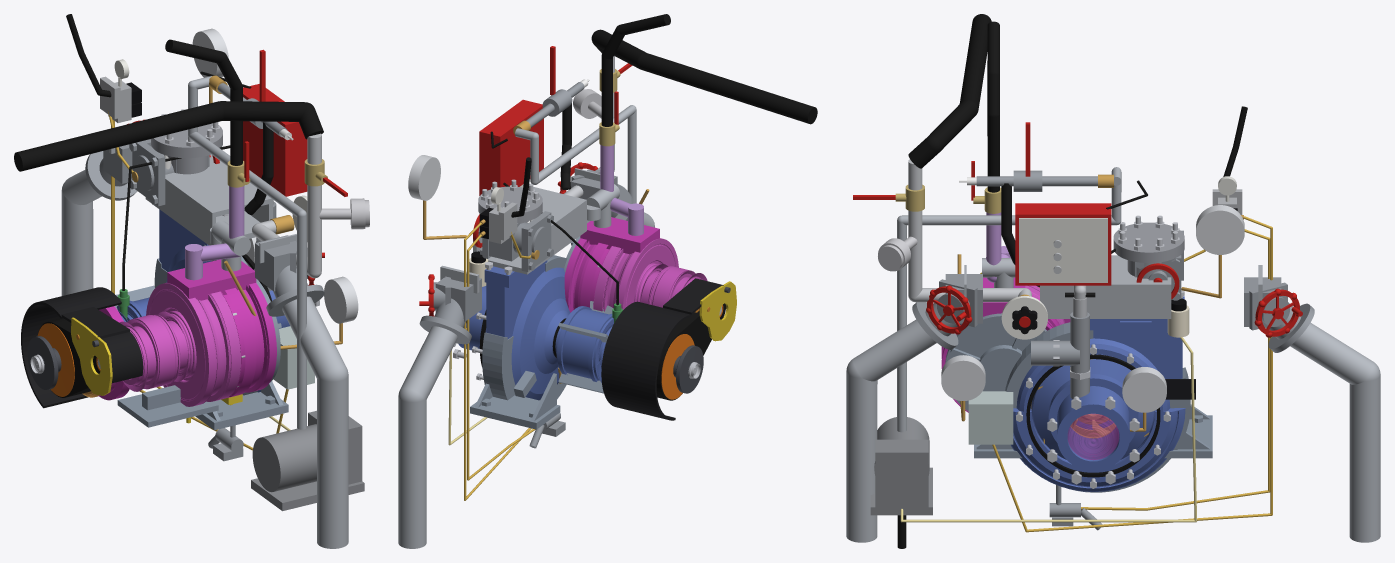
The model's file is NCPK_M_V1U.glb.
3 renders of one model, left to right at view 1: azimuth 30°, elevation 25°; view 2: azimuth 150°, elevation 25°; view 3: azimuth 270°, elevation 25°, orthographic. The views are drawn at different scales.
Parts seen in each view (by area): view 1: ВД 6 Корпус насоса и опор, П 1 Напорный трубопровод АЦ (левый), П Рукав к пенобаку, П 24 Агрегат вакуумный, Р Кожух ремённой передачи, П Коллектор напорный, П 12 Напорный трубопровод АЦ (правый), ВД 1 Корпус насоса (со стороны входа), П Труба вакуумирования к агрегату (уточнить), П 7 Блок управления и контроля БУК-02, П 1 Напорный вентиль DN70 (левый): корпус и патрубок, ВД 6 Лапа крепления ступени ВД (+29 smaller); view 2: НД 13 Корпус насоса, Р Кожух ремённой передачи, П 12 Напорный трубопровод АЦ (правый), ВД 6 Корпус насоса и опор, П Рукав к пенобаку, П 7 Блок управления и контроля БУК-02, П Коллектор напорный, НД 13 Опорные лапы корпуса, П 12 Напорный вентиль DN70 (правый): корпус и патрубок, П Труба вакуумирования к агрегату (уточнить), П 10 Напорный вентиль DN80 заполнения цистерны: корпус, НД 13 Улитка: наружная спиральная стенка (+21 smaller); view 3: НД 13 Корпус насоса, П 12 Напорный трубопровод АЦ (правый), НД 16 Крышка насоса, П 1 Напорный трубопровод АЦ (левый), П 7 БУК-02: лицевая панель, П 24 Агрегат вакуумный, П Коллектор напорный, П Рукав к пенобаку, ВД 1 Передняя крышка ступени ВД, П Труба вакуумирования к агрегату (уточнить), П 12 Напорный вентиль DN70 (правый): корпус и патрубок, П 1 Напорный вентиль DN70 (левый): корпус и патрубок (+29 smaller).
Boxes of the visible parts, left/top/right/bottom form: ВД 6 Корпус насоса и опор: left=119, top=282, right=240, bottom=406; П 1 Напорный трубопровод АЦ (левый): left=282, top=296, right=348, bottom=548; П Рукав к пенобаку: left=14, top=101, right=323, bottom=171; П 24 Агрегат вакуумный: left=251, top=410, right=364, bottom=511; Р Кожух ремённой передачи: left=21, top=287, right=143, bottom=408; П Коллектор напорный: left=109, top=148, right=296, bottom=263; П 12 Напорный трубопровод АЦ (правый): left=61, top=169, right=101, bottom=295; ВД 1 Корпус насоса (со стороны входа): left=220, top=283, right=276, bottom=397; П Труба вакуумирования к агрегату (уточнить): left=188, top=76, right=306, bottom=429; П 7 Блок управления и контроля БУК-02: left=243, top=84, right=307, bottom=196; П 1 Напорный вентиль DN70 (левый): корпус и патрубок: left=255, top=235, right=324, bottom=316; ВД 6 Лапа крепления ступени ВД: left=117, top=385, right=218, bottom=427; НД 13 Корпус насоса: left=484, top=257, right=613, bottom=400; Р Кожух ремённой передачи: left=601, top=278, right=726, bottom=420; П 12 Напорный трубопровод АЦ (правый): left=398, top=326, right=457, bottom=548; ВД 6 Корпус насоса и опор: left=594, top=238, right=707, bottom=311; П Рукав к пенобаку: left=591, top=29, right=817, bottom=124; П 7 Блок управления и контроля БУК-02: left=479, top=99, right=543, bottom=195; П Коллектор напорный: left=440, top=168, right=600, bottom=293; НД 13 Опорные лапы корпуса: left=470, top=371, right=560, bottom=429; П 12 Напорный вентиль DN70 (правый): корпус и патрубок: left=419, top=276, right=481, bottom=344; П Труба вакуумирования к агрегату (уточнить): left=515, top=105, right=636, bottom=203; П 10 Напорный вентиль DN80 заполнения цистерны: корпус: left=480, top=211, right=553, bottom=271; НД 13 Улитка: наружная спиральная стенка: left=482, top=255, right=567, bottom=400; НД 13 Корпус насоса: left=1011, top=296, right=1185, bottom=491; П 12 Напорный трубопровод АЦ (правый): left=1290, top=322, right=1380, bottom=542; НД 16 Крышка насоса: left=1031, top=354, right=1155, bottom=470; П 1 Напорный трубопровод АЦ (левый): left=846, top=319, right=936, bottom=542; П 7 БУК-02: лицевая панель: left=1019, top=218, right=1107, bottom=282; П 24 Агрегат вакуумный: left=870, top=417, right=932, bottom=515; П Коллектор напорный: left=964, top=255, right=1262, bottom=318; П Рукав к пенобаку: left=908, top=14, right=991, bottom=168; ВД 1 Передняя крышка ступени ВД: left=945, top=313, right=1046, bottom=411; П Труба вакуумирования к агрегату (уточнить): left=897, top=167, right=1121, bottom=432; П 12 Напорный вентиль DN70 (правый): корпус и патрубок: left=1244, top=277, right=1314, bottom=352; П 1 Напорный вентиль DN70 (левый): корпус и патрубок: left=912, top=274, right=982, bottom=349.
Size of the model in its own units: 0.8564 by 1.16 by 1.2.
